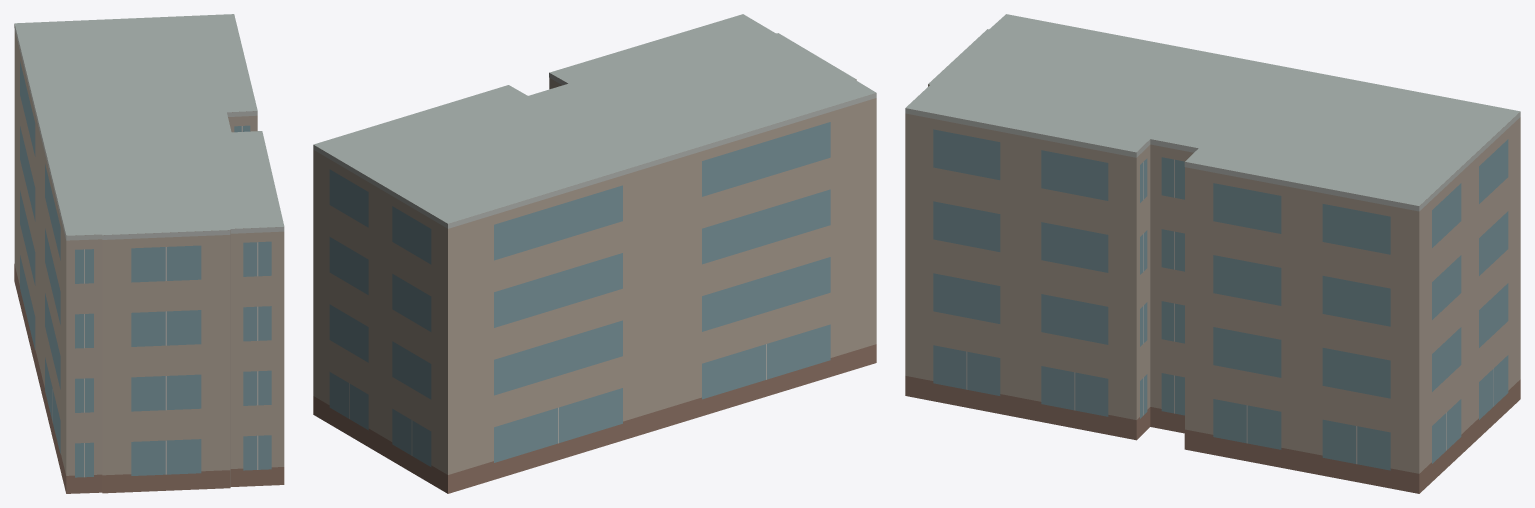
The model's file is survey-upis-32669288.glb.
The picture shows the model from 3 angles, left to right: view 1: azimuth 30°, elevation 25°; view 2: azimuth 150°, elevation 25°; view 3: azimuth 270°, elevation 25°; orthographic projection. The views are drawn at different scales.
Parts seen in each view (by area): view 1: survey-upis-32669288.tmp; view 2: survey-upis-32669288.tmp; view 3: survey-upis-32669288.tmp.
Boxes of the visible parts, <box> form: survey-upis-32669288.tmp: <box>14,14,284,493</box>; survey-upis-32669288.tmp: <box>313,14,876,493</box>; survey-upis-32669288.tmp: <box>905,14,1520,493</box>.
Size of the model in its own units: 18.7 by 13.05 by 25.3.
